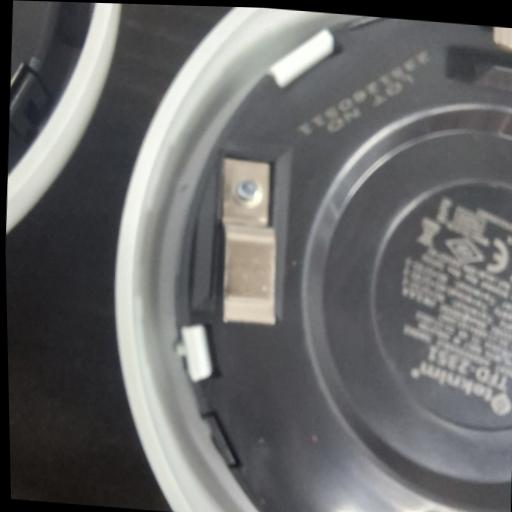yaysiz: (209, 152, 286, 330)
